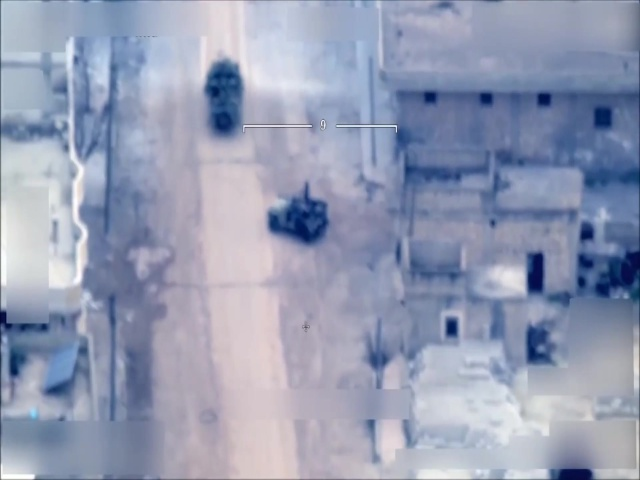vehicle: (267, 188, 329, 242), (202, 55, 244, 132)
